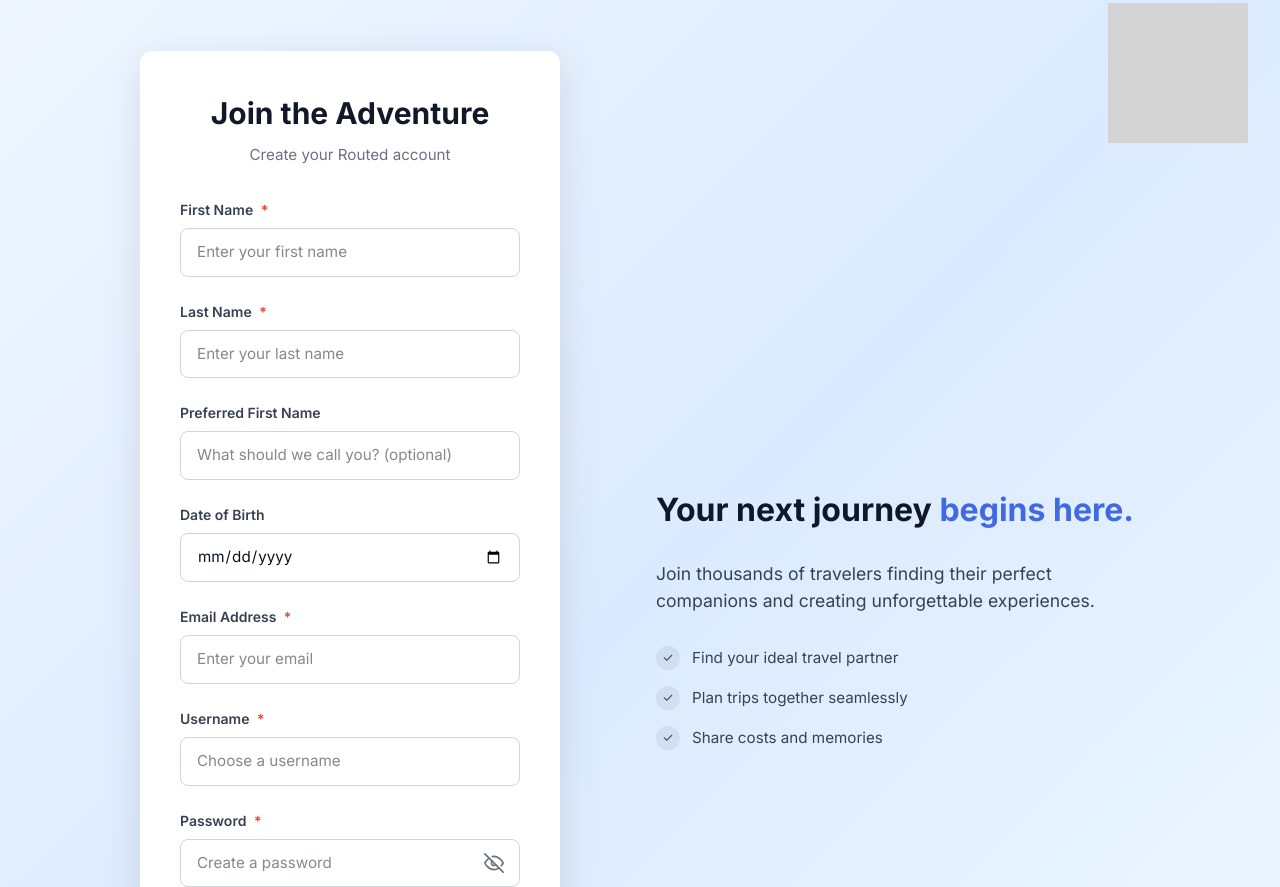
Test: Signup › shows API error on failure
Type "John" into the field labelled "First Name *" at (350, 252), box [180, 228, 520, 277]
Type "Doe" into the field labelled "Last Name *" at (350, 354), box [180, 330, 520, 378]
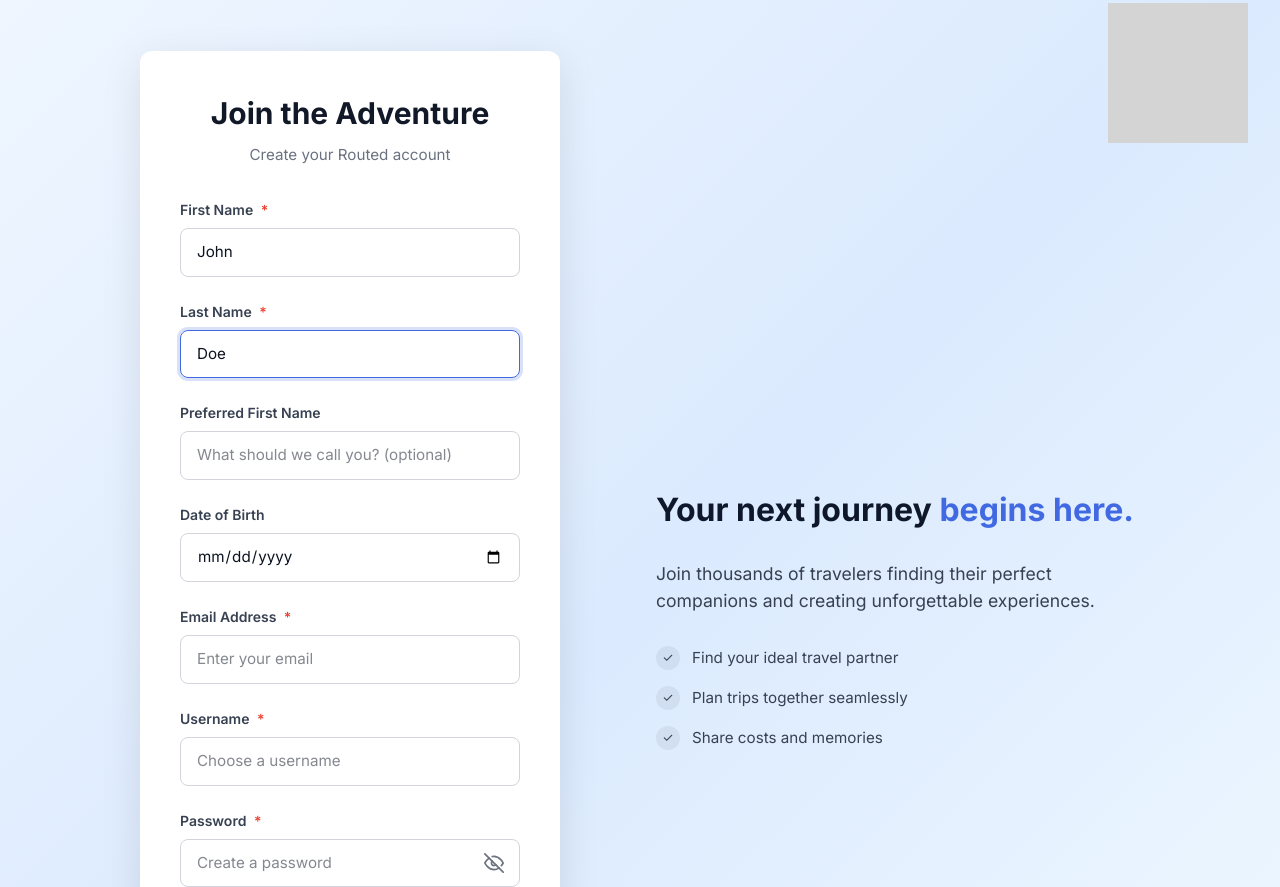
Type "john@example.com" into the field labelled "Email Address *" at (350, 659), box [180, 635, 520, 684]
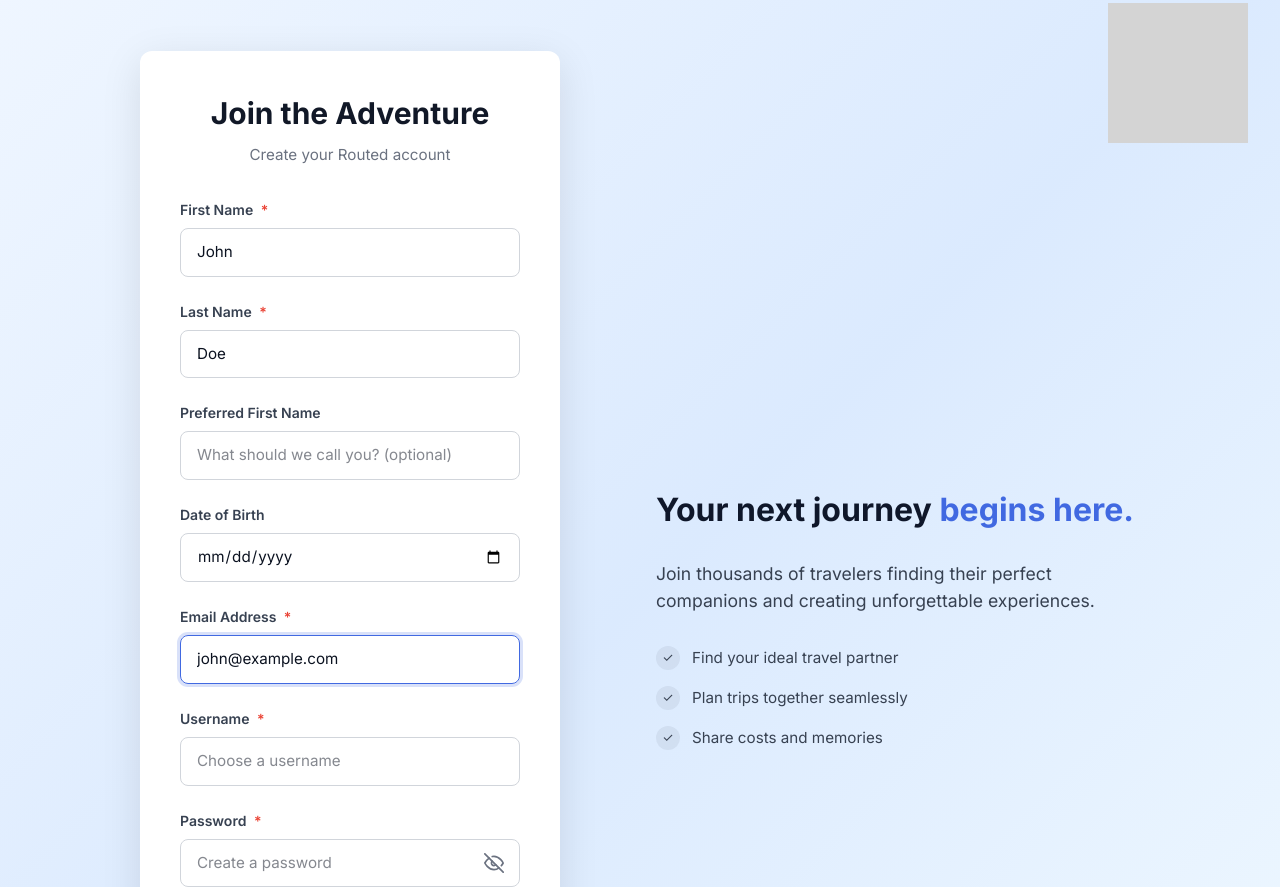
Type "johndoe" into the field labelled "Username *" at (350, 761), box [180, 737, 520, 786]
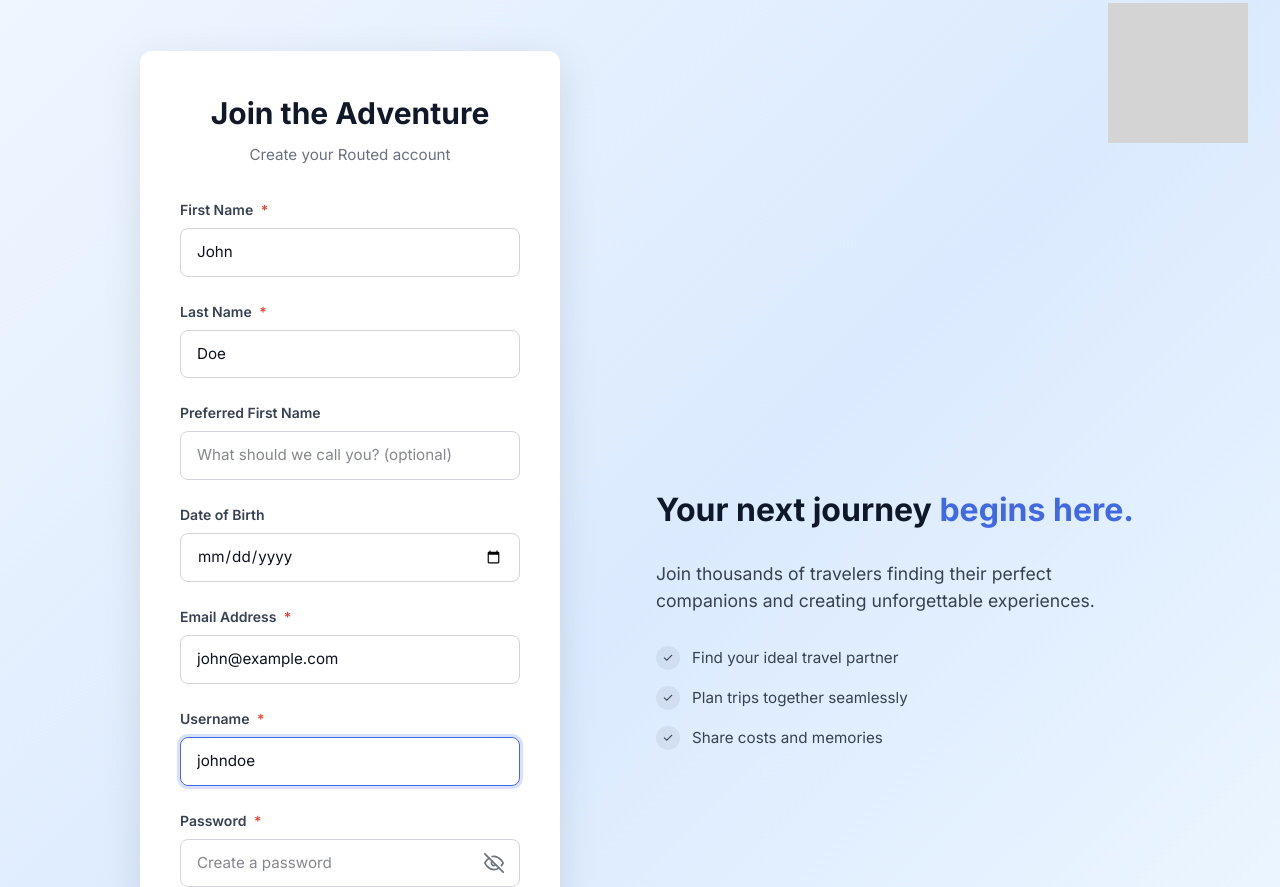
Type "password123" into the password field labelled "Password *" at (350, 863), box [180, 838, 520, 886]
(page scrolled)
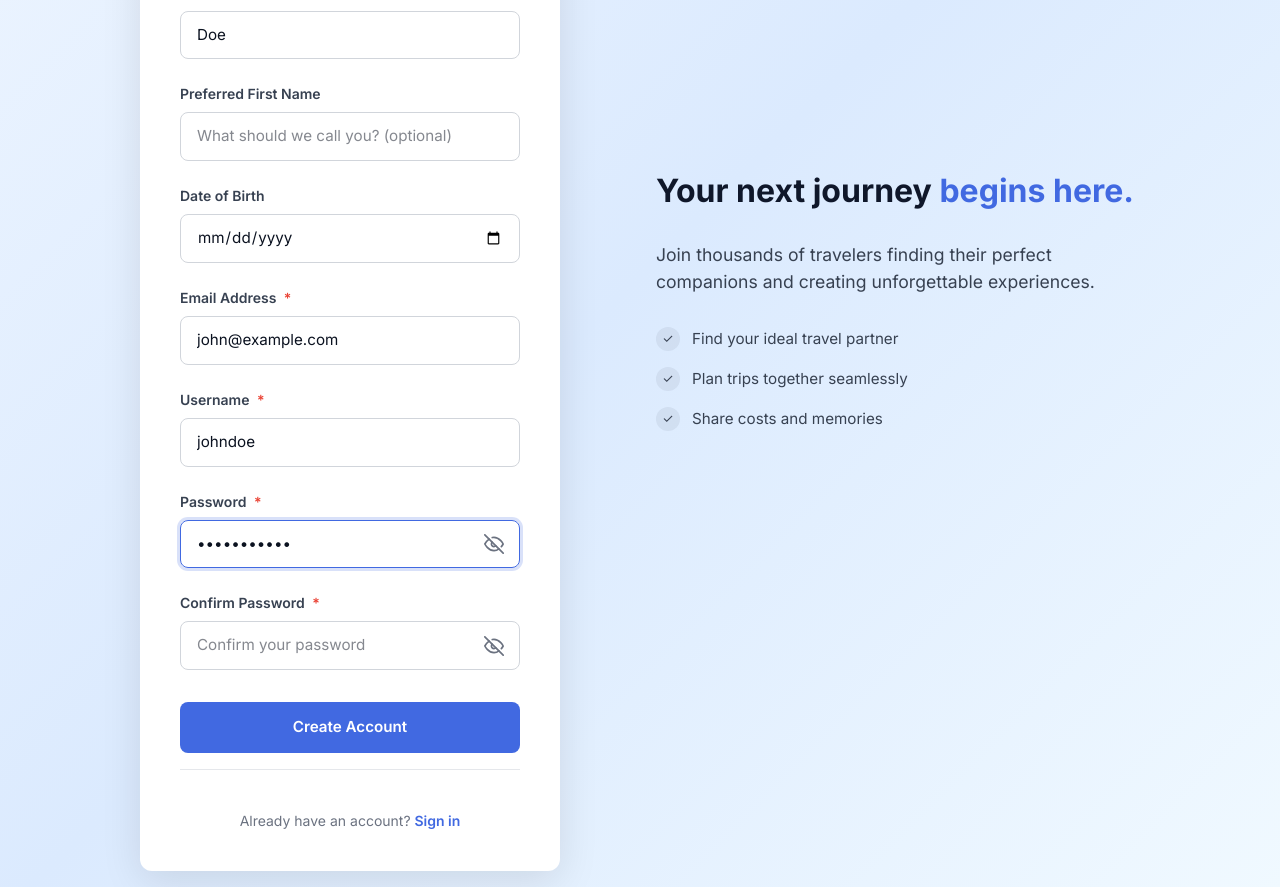
Type "password123" into the password field labelled "Confirm Password *" at (350, 646), box [180, 621, 520, 670]
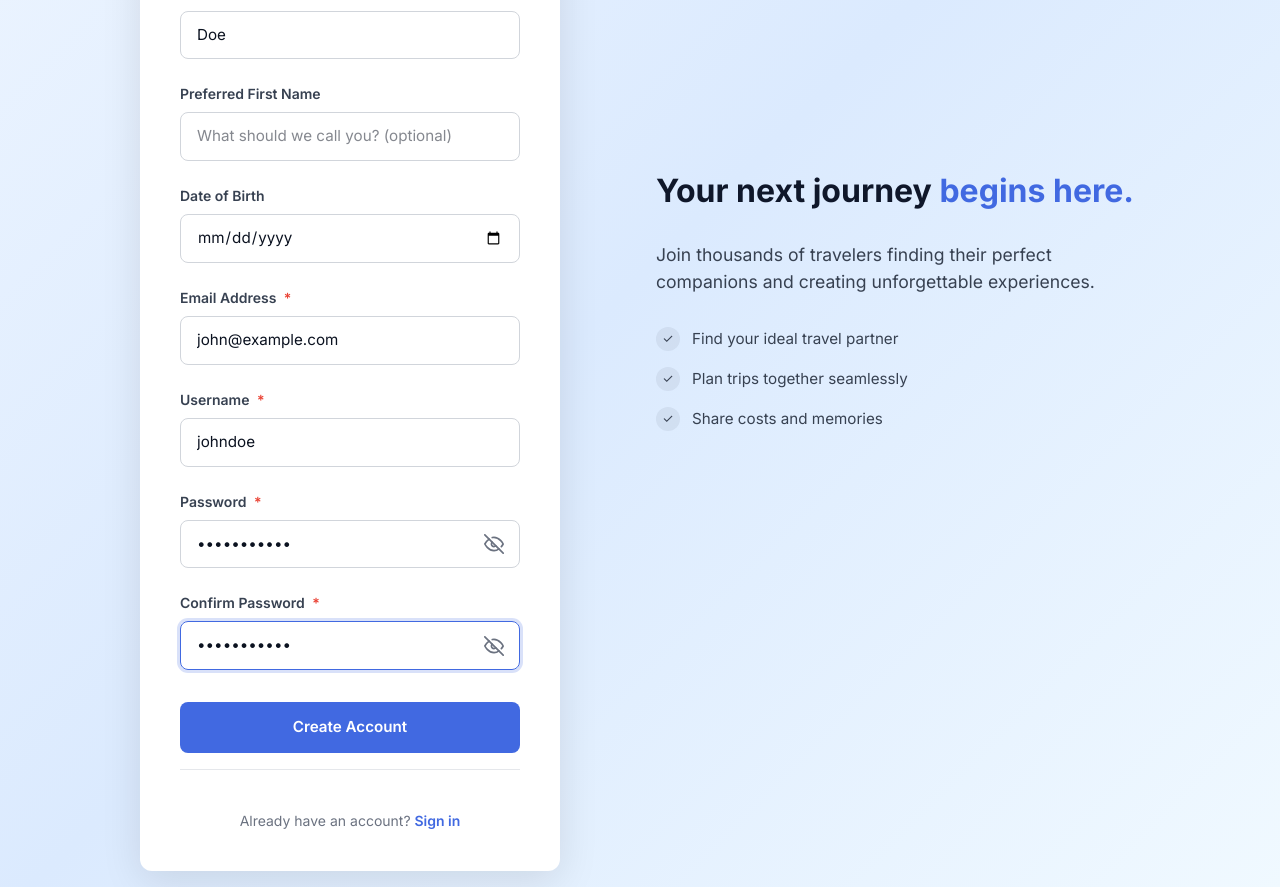
Click the button "Create Account" at (350, 728), box [180, 702, 520, 753]
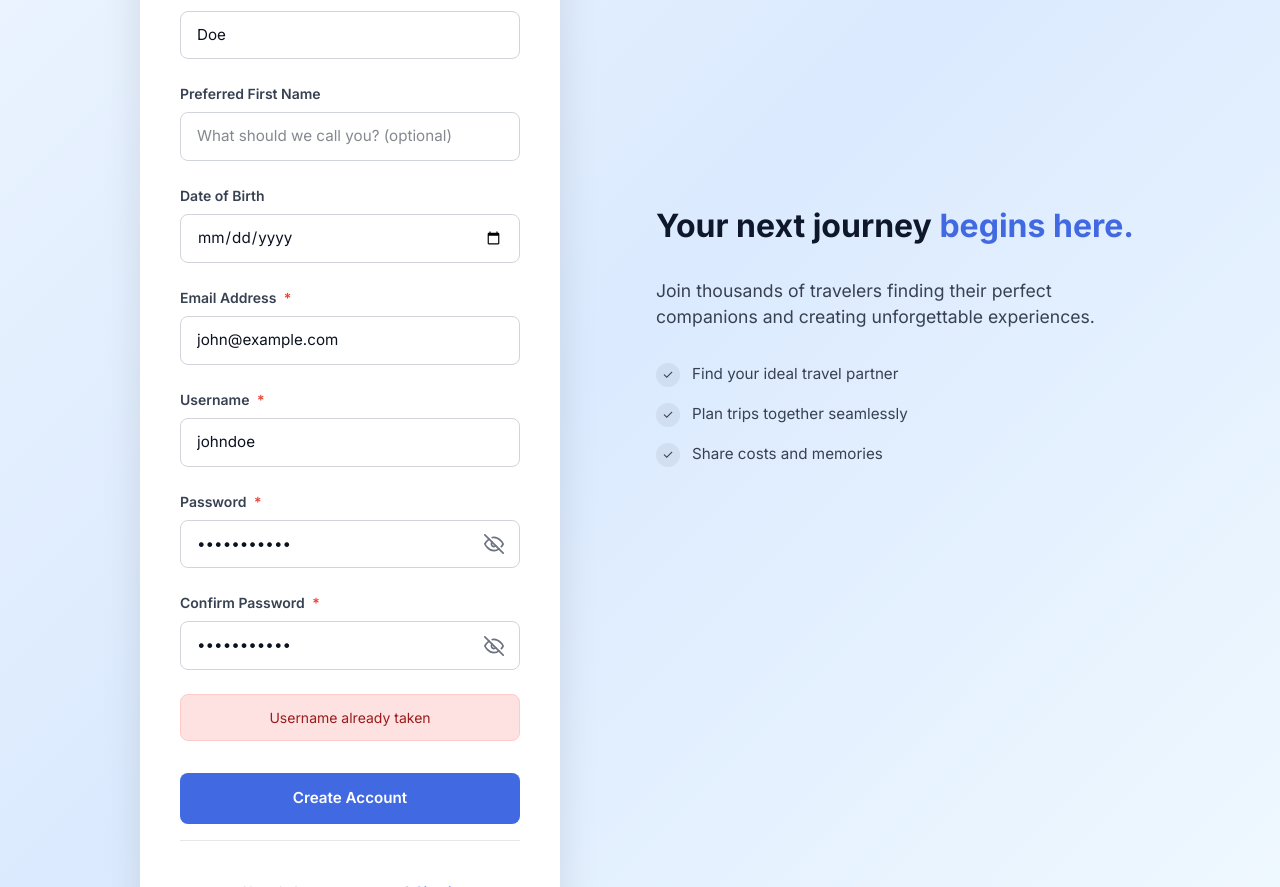
expect the text "Username already taken" is shown: met, box [180, 694, 520, 741]
